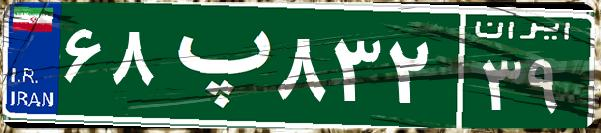2: (385, 28, 445, 110)
3: (330, 28, 385, 110), (475, 38, 525, 113)
6: (57, 26, 110, 107)
8: (273, 28, 330, 110), (110, 28, 158, 105)
9: (525, 38, 570, 115)
پ: (158, 15, 273, 115)
